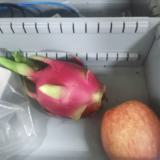apple: (101, 99, 160, 160)
pitaya: (23, 56, 106, 120)
